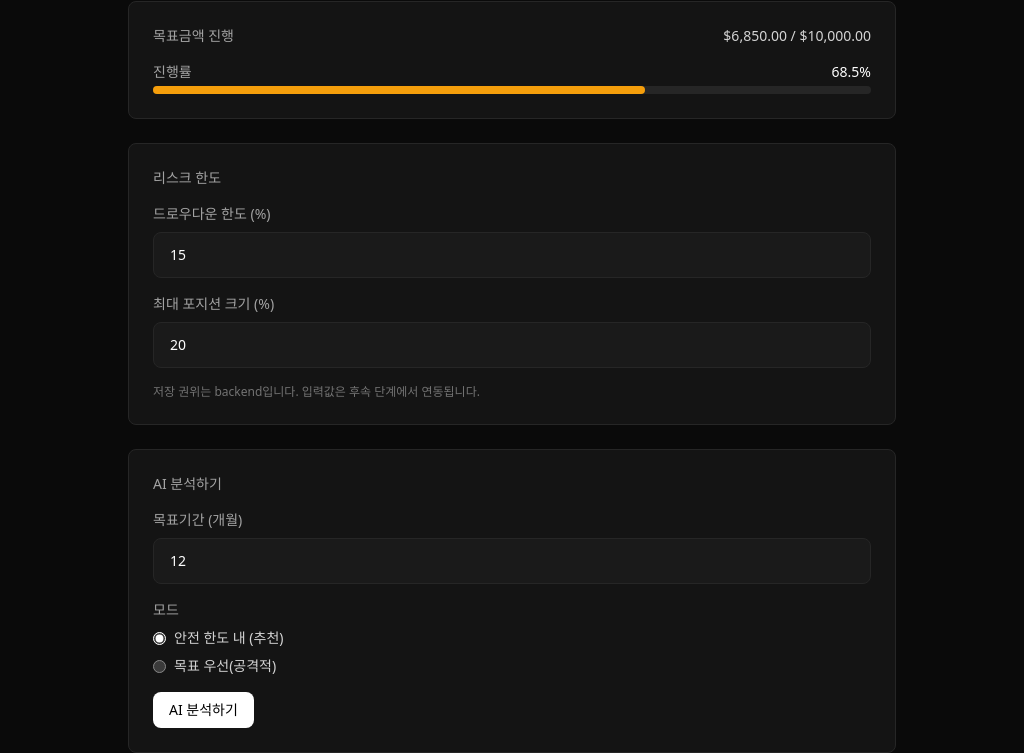
⑤ 목표 & 리스크 — AI 분석 패널 › 백엔드 fetch 실패(null) 시 mock 계획으로 graceful fallback 한다(크래시 없음)
(page scrolled)
Click the button with test id "analyze-btn".
click(203, 710)  # box x1=153 y1=692 x2=254 y2=728
(page scrolled)
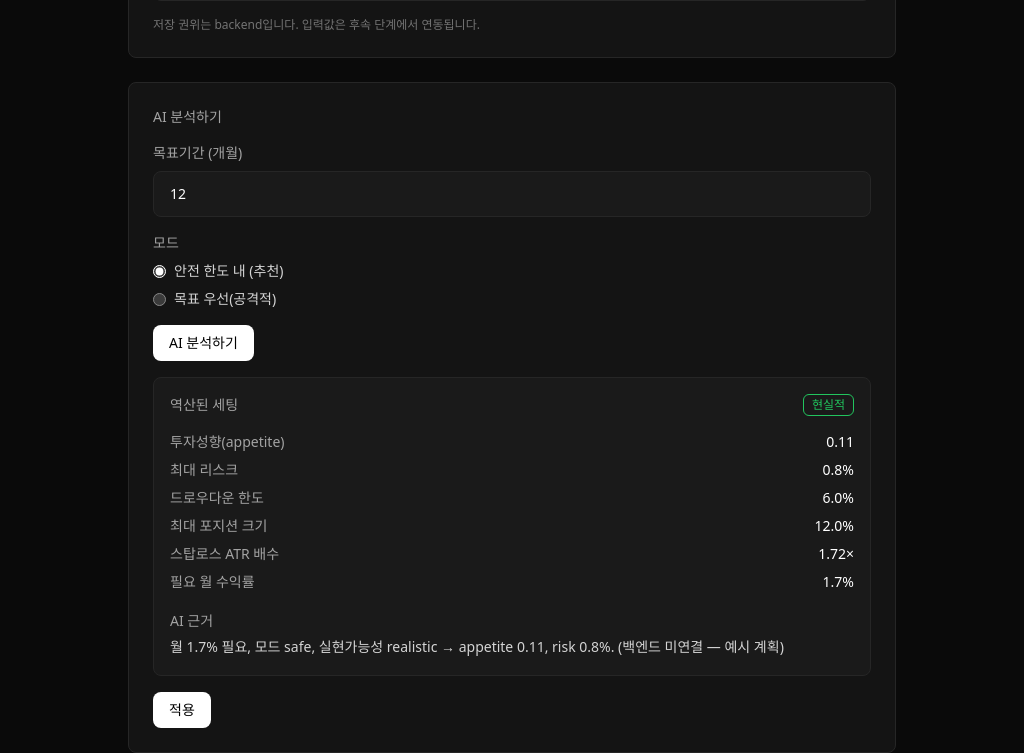
Result: the element with test id "ai-result-panel" is shown at x1=153 y1=377 x2=871 y2=676
Result: the text "현실적" is shown at x1=803 y1=394 x2=854 y2=416
Result: the text with test id "ai-rationale" is shown at x1=170 y1=636 x2=854 y2=659
